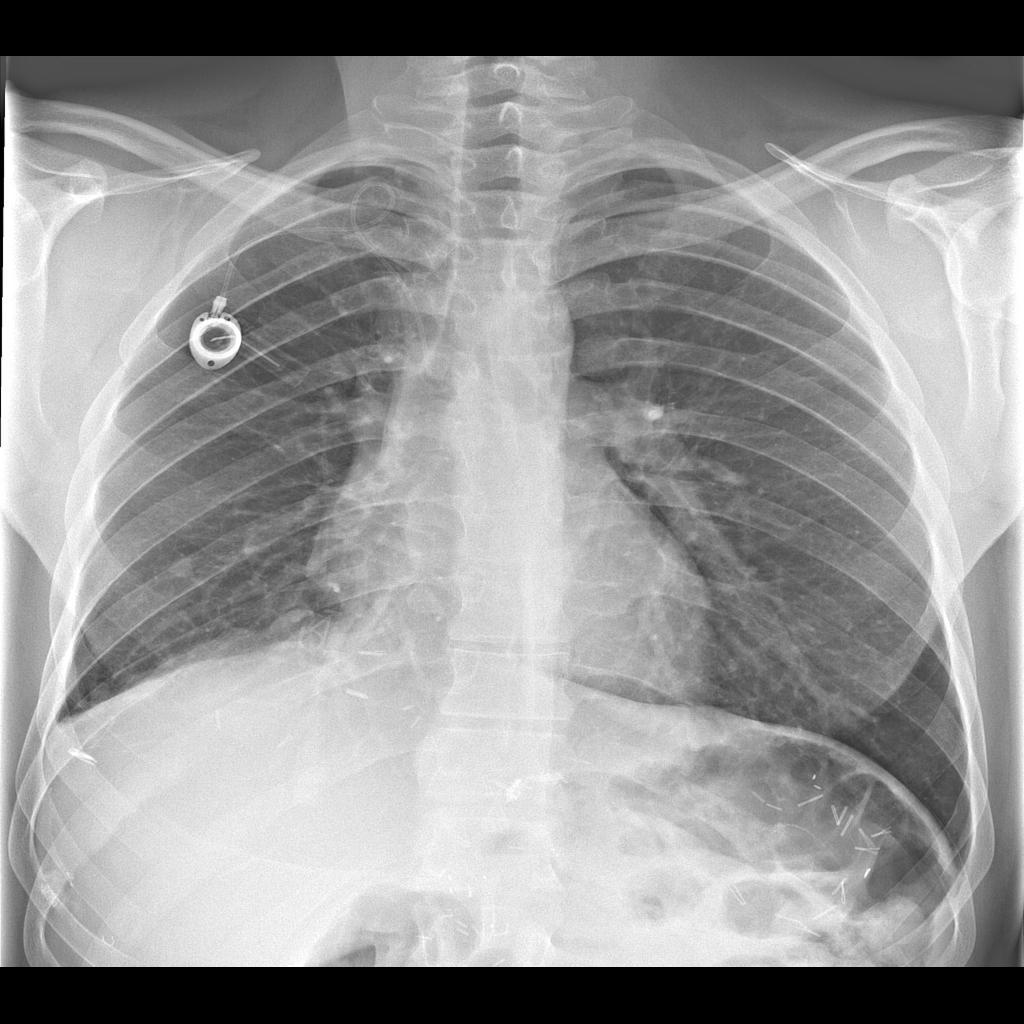Nodule: (160, 542, 201, 594)
